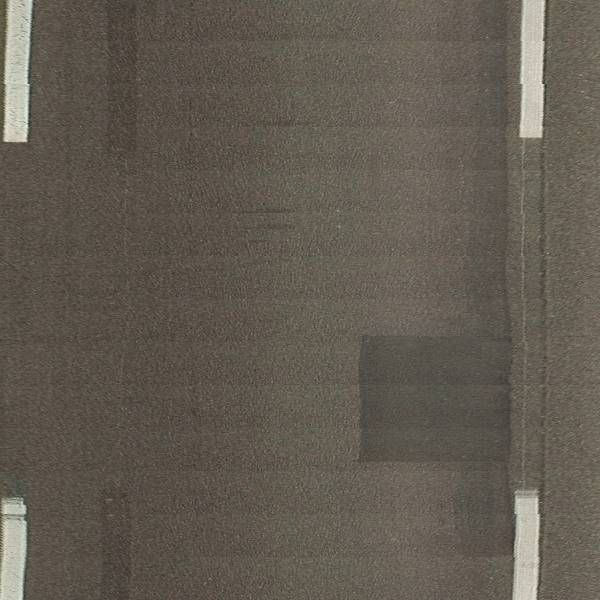road_damage: (350, 326, 518, 468)
